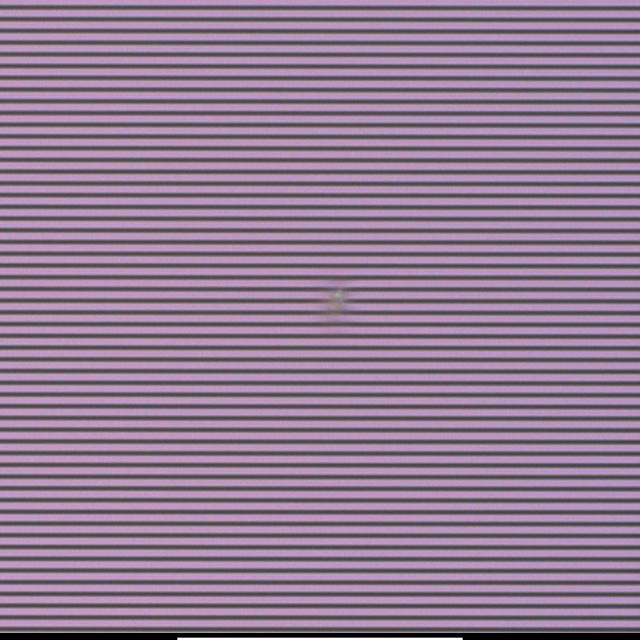nonvisual: (324, 286, 350, 310)
